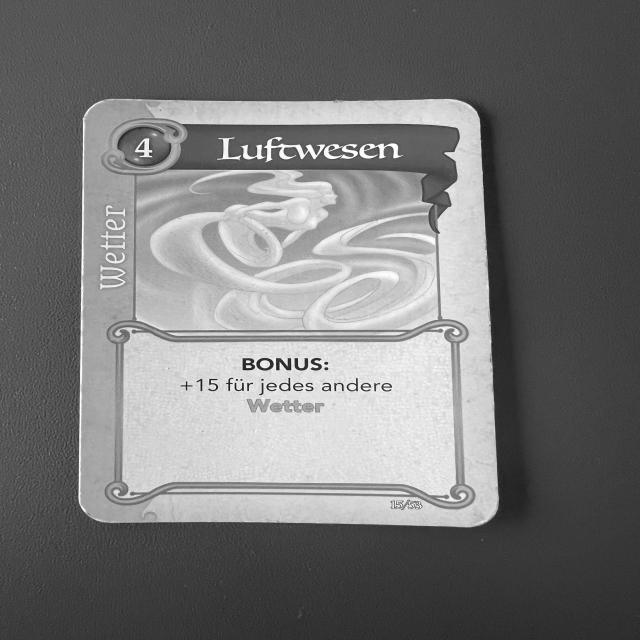Air Elemental: (74, 94, 502, 534)
